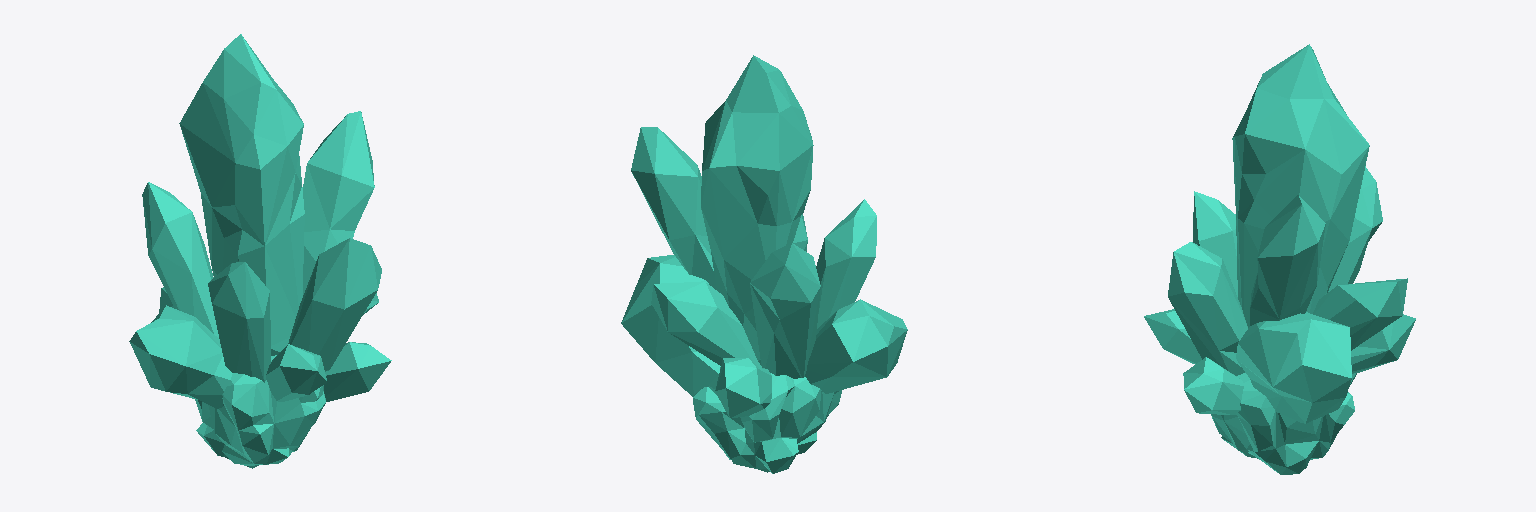
Rendered from crystal.obj.
The picture shows the model from 3 angles: view 1: azimuth 30°, elevation 25°; view 2: azimuth 150°, elevation 25°; view 3: azimuth 270°, elevation 25°; orthographic projection.
Visible parts, largest first — view 1: Crystal8_low, Stoun_low, Crystal4_low, Crystal7_low, Crystal11_low, Crystal1_low, Crystal10_low, Crystal6_low, Crystal9_low; view 2: Crystal8_low, Stoun_low, Crystal1_low, Crystal4_low, Crystal11_low, Crystal5_low, Crystal3_low, Crystal10_low, Crystal2_low; view 3: Crystal8_low, Crystal5_low, Crystal4_low, Crystal7_low, Stoun_low, Crystal3_low, Crystal6_low, Crystal10_low, Crystal1_low, Crystal2_low, Crystal9_low.
Part boxes in pixels (x1,y1,x2,y2): Crystal8_low: (179, 34, 304, 355); Stoun_low: (195, 355, 325, 468); Crystal4_low: (303, 111, 374, 294); Crystal7_low: (288, 238, 381, 371); Crystal11_low: (129, 305, 232, 408); Crystal1_low: (142, 182, 218, 337); Crystal10_low: (208, 262, 270, 382); Crystal6_low: (324, 342, 391, 401); Crystal9_low: (266, 344, 326, 401); Crystal8_low: (701, 55, 813, 364); Stoun_low: (693, 367, 841, 473); Crystal1_low: (750, 243, 820, 378); Crystal4_low: (631, 127, 716, 289); Crystal11_low: (805, 299, 907, 393); Crystal5_low: (621, 255, 720, 396); Crystal3_low: (651, 282, 761, 367); Crystal10_low: (816, 199, 876, 328); Crystal2_low: (715, 358, 771, 417); Crystal8_low: (1232, 44, 1369, 327); Crystal5_low: (1236, 312, 1351, 423); Crystal4_low: (1250, 195, 1325, 325); Crystal7_low: (1168, 242, 1247, 375); Stoun_low: (1211, 373, 1356, 474); Crystal3_low: (1313, 278, 1407, 350); Crystal6_low: (1183, 357, 1243, 414); Crystal10_low: (1193, 191, 1237, 296); Crystal1_low: (1328, 166, 1382, 291); Crystal2_low: (1351, 314, 1415, 373); Crystal9_low: (1144, 309, 1201, 364).
Size of the model in its own units: 51.77 by 85 by 49.7.